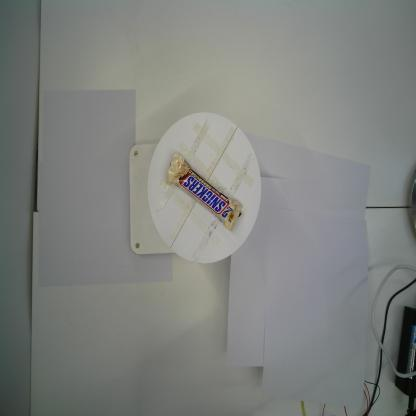Chocolate: (162, 150, 242, 232)
